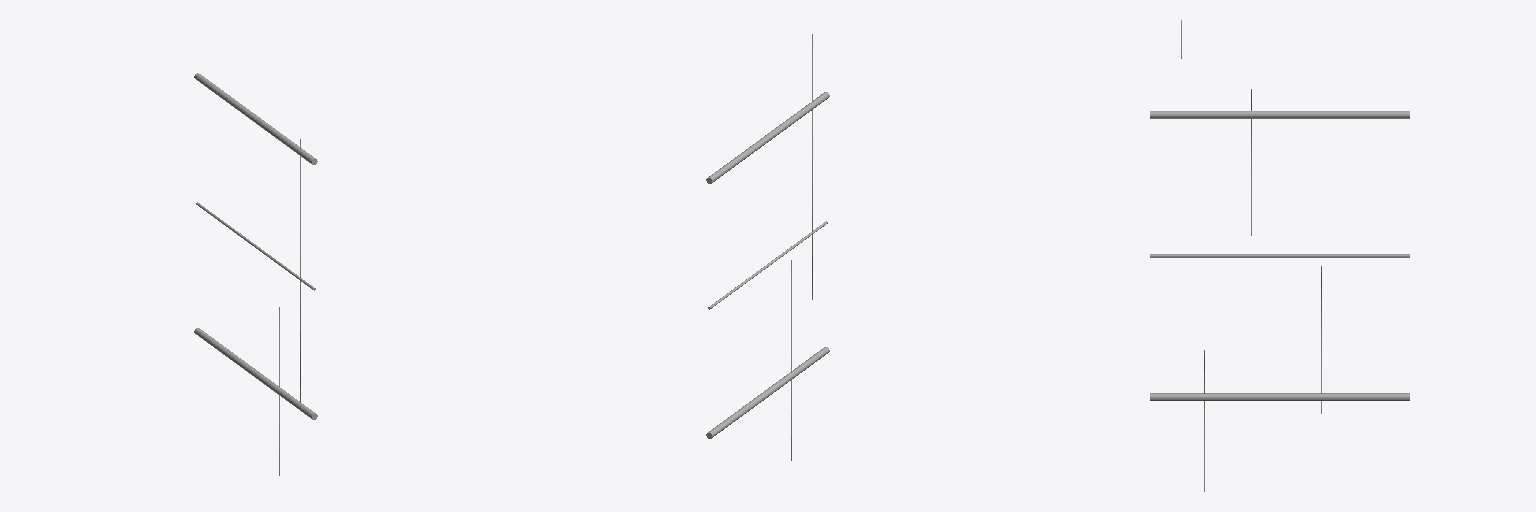
The robot description file, URDF, robot "tree":
<?xml version="1.0" ?>
<!-- =================================================================================== -->
<!-- |    This document was autogenerated by xacro from [local-path]/branch_detection_ws/src/pybullet_tree_sim/pybullet_tree_sim/urdf/supports_and_post/supports_and_post.urdf.xacro | -->
<!-- |    EDITING THIS FILE BY HAND IS NOT RECOMMENDED                                 | -->
<!-- =================================================================================== -->
<robot name="tree">
	<!-- <xacro:arg name="xyz" default="0.0 0.0 0.0"/>
    <xacro:arg name="rpy" default="0.0 0.0 0.0"/> -->
	<!-- TODO: get absolute file paths? -->
	<link name="world"/>
	<link name="supports_and_post">
		<visual>
			<geometry>
				<mesh filename="./meshes/supports_and_post/supports_and_post.obj" scale="1 1 1"/>
			</geometry>
			<material name="LightGrey">
				<color rgba="0.7 0.7 0.7 1.0"/>
			</material>
		</visual>
		<collision concave="true">
			<geometry>
				<mesh filename="./meshes/supports_and_post/supports_and_post.obj" scale="1 1 1"/>
			</geometry>
		</collision>
		<inertial>
			<mass value="8.0"/>
			<origin rpy="0.0 0.0 0.0" xyz="0.0 0.0 0.0"/>
			<inertia ixx="0.00443333156" ixy="0.0" ixz="0.0" iyy="0.00443333156" iyz="0.0" izz="0.0072"/>
		</inertial>
	</link>
	<joint name="supports_and_post_joint" type="fixed">
		<parent link="world"/>
		<child link="supports_and_post"/>
		<origin rpy="0.0 0.0 0.0" xyz="0.0 0.0 0.0"/>
	</joint>
</robot>

--- What the picture shows (computed from the rendered views, not written in the file) ---
The picture shows the robot from 3 angles, left to right: view 1: azimuth 30°, elevation 25°; view 2: azimuth 150°, elevation 25°; view 3: azimuth 270°, elevation 25°; orthographic projection.
Model tree with 2 links and 1 joints (1 fixed), rooted at world, posed every joint at zero.
Links seen in each view (by area): view 1: supports_and_post; view 2: supports_and_post; view 3: supports_and_post.
Link boxes in pixels (x1,y1,x2,y2): supports_and_post: (194,73,317,475); supports_and_post: (706,34,829,460); supports_and_post: (1150,20,1409,491).
Size in the robot's own frame: 0.15 by 5 by 10 metres.
Meshes: 1 distinct files referenced, 1 mesh visuals loaded (1 OBJ).
